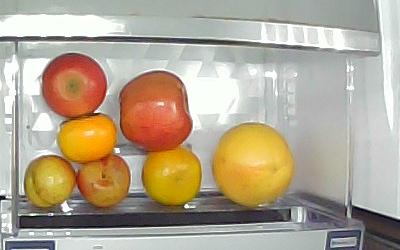apple: (118, 70, 194, 152), (41, 53, 107, 118)
grapefruit: (211, 122, 295, 208)
persimmon: (141, 148, 202, 206), (57, 114, 120, 163)
prune: (77, 154, 131, 209), (25, 155, 76, 208)
